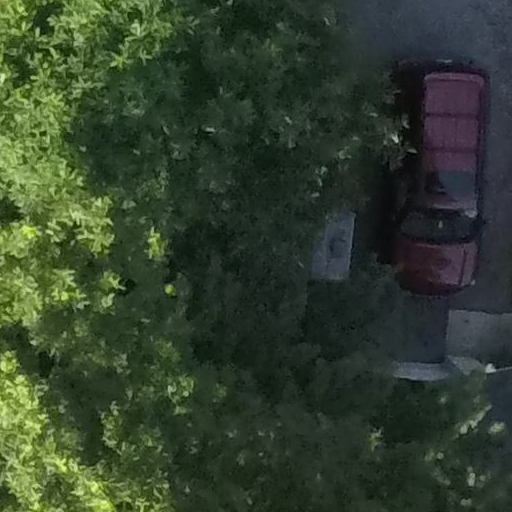car: (382, 34, 495, 312)
